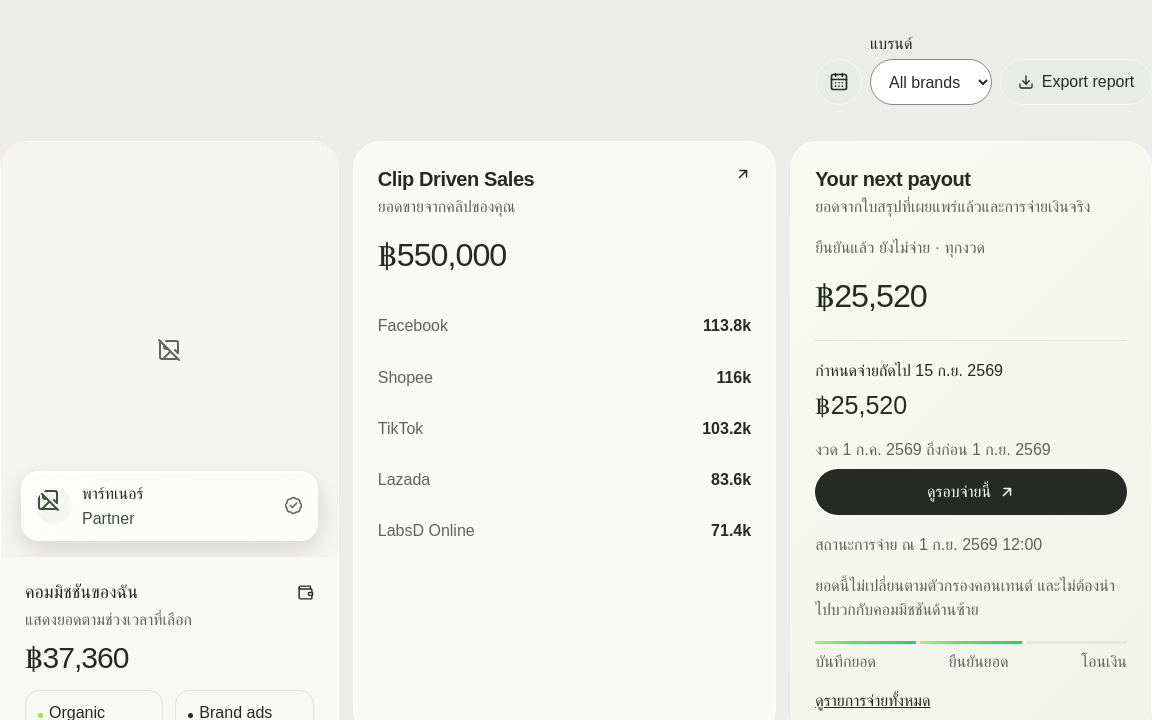
Scenario: overview report UI authorization and snapshot › aborts the pending report on refresh and never renders a late error
Click the button "Export report".
click(1076, 82)  # box [1000,59,1151,105]
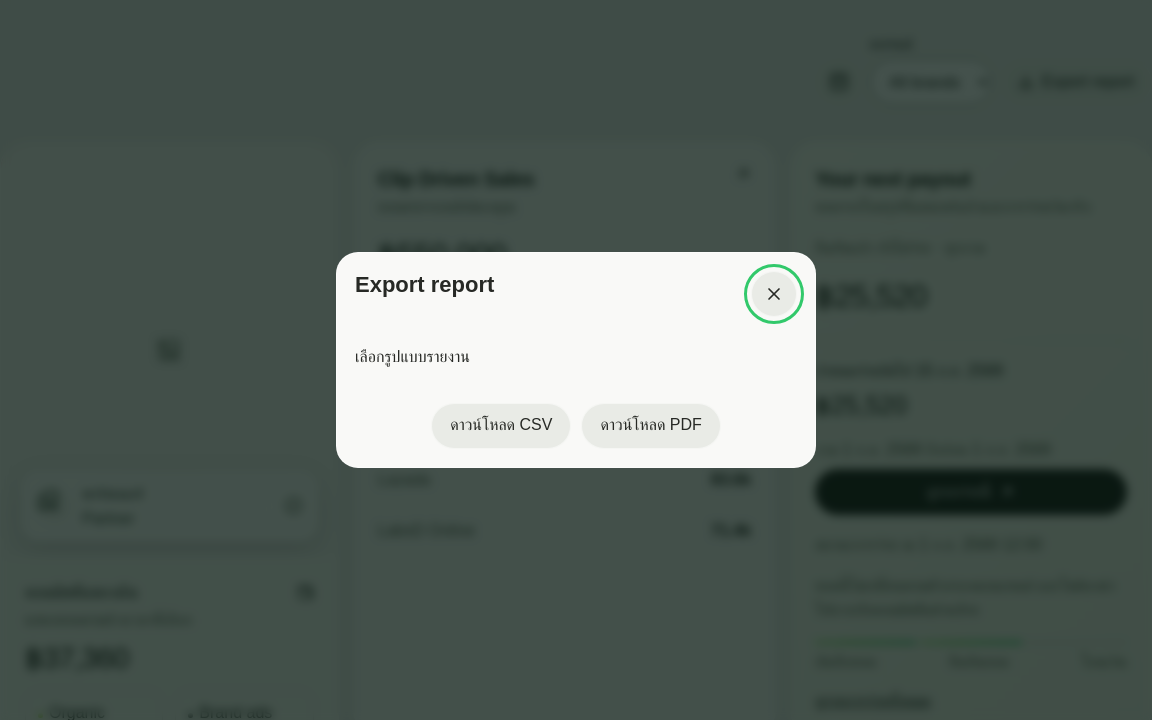
Click the button "ดาวน์โหลด PDF".
click(651, 426)  # box [582,403,721,449]
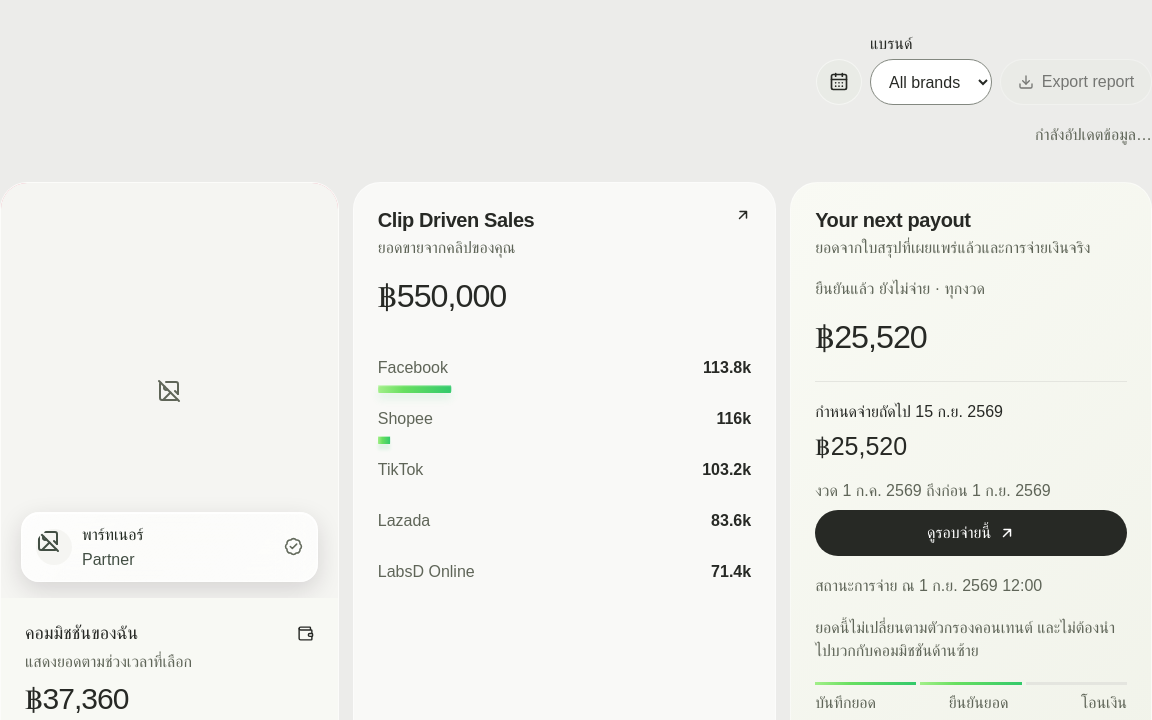
Result: the text "กำลังอัปเดตข้อมูล…" is shown at [1035,126,1151,143]
Result: the button "Export report" is disabled at [1000,59,1151,105]
